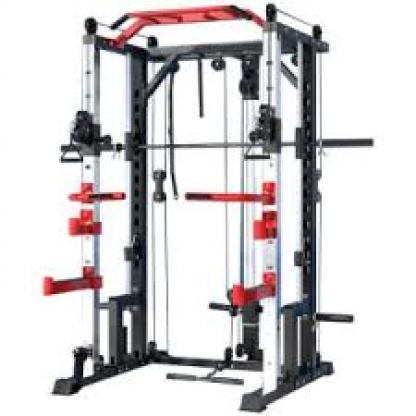smith machine: (43, 5, 354, 412)
